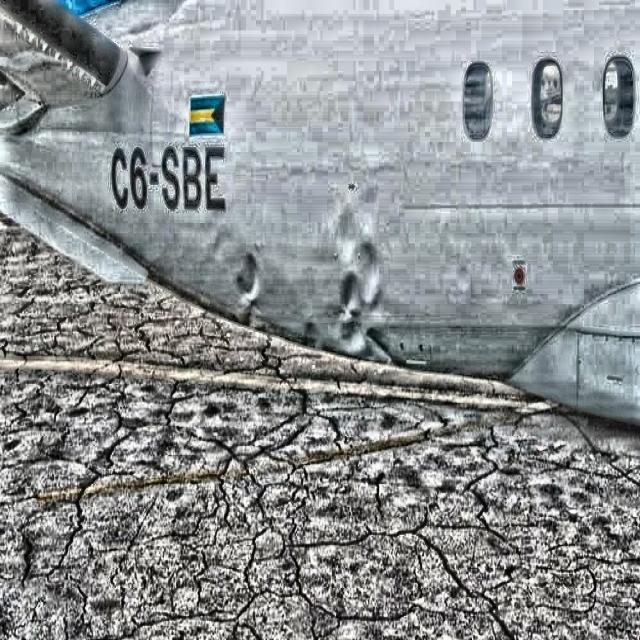dent: (236, 204, 396, 379)
